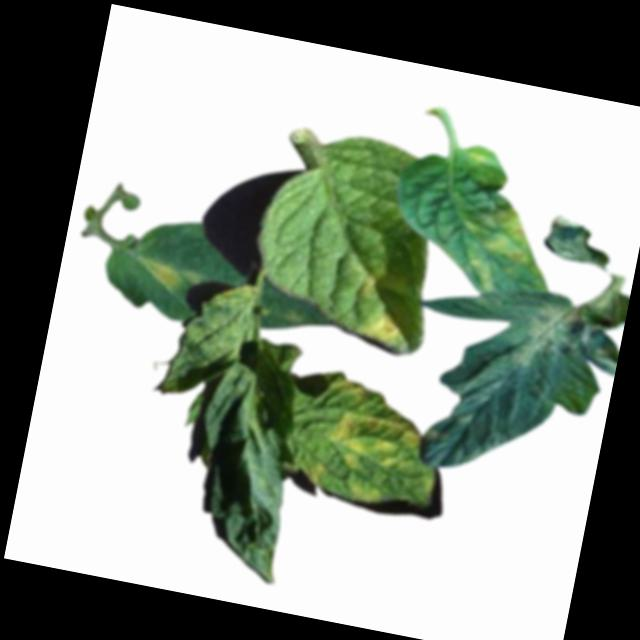Leaf_Mold: (319, 373, 431, 477), (455, 197, 551, 301), (501, 297, 587, 377), (353, 309, 400, 348), (137, 257, 185, 292), (300, 456, 326, 487), (354, 274, 373, 300)
